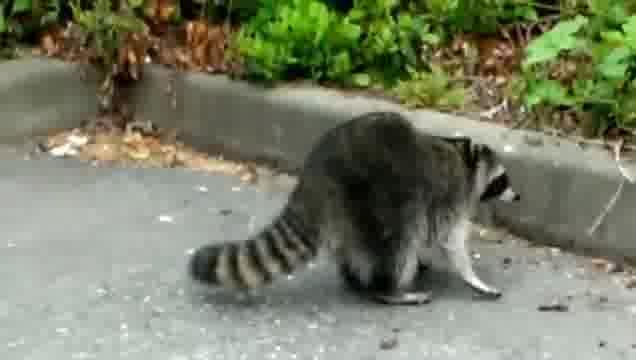raccoon: (190, 111, 521, 304)
